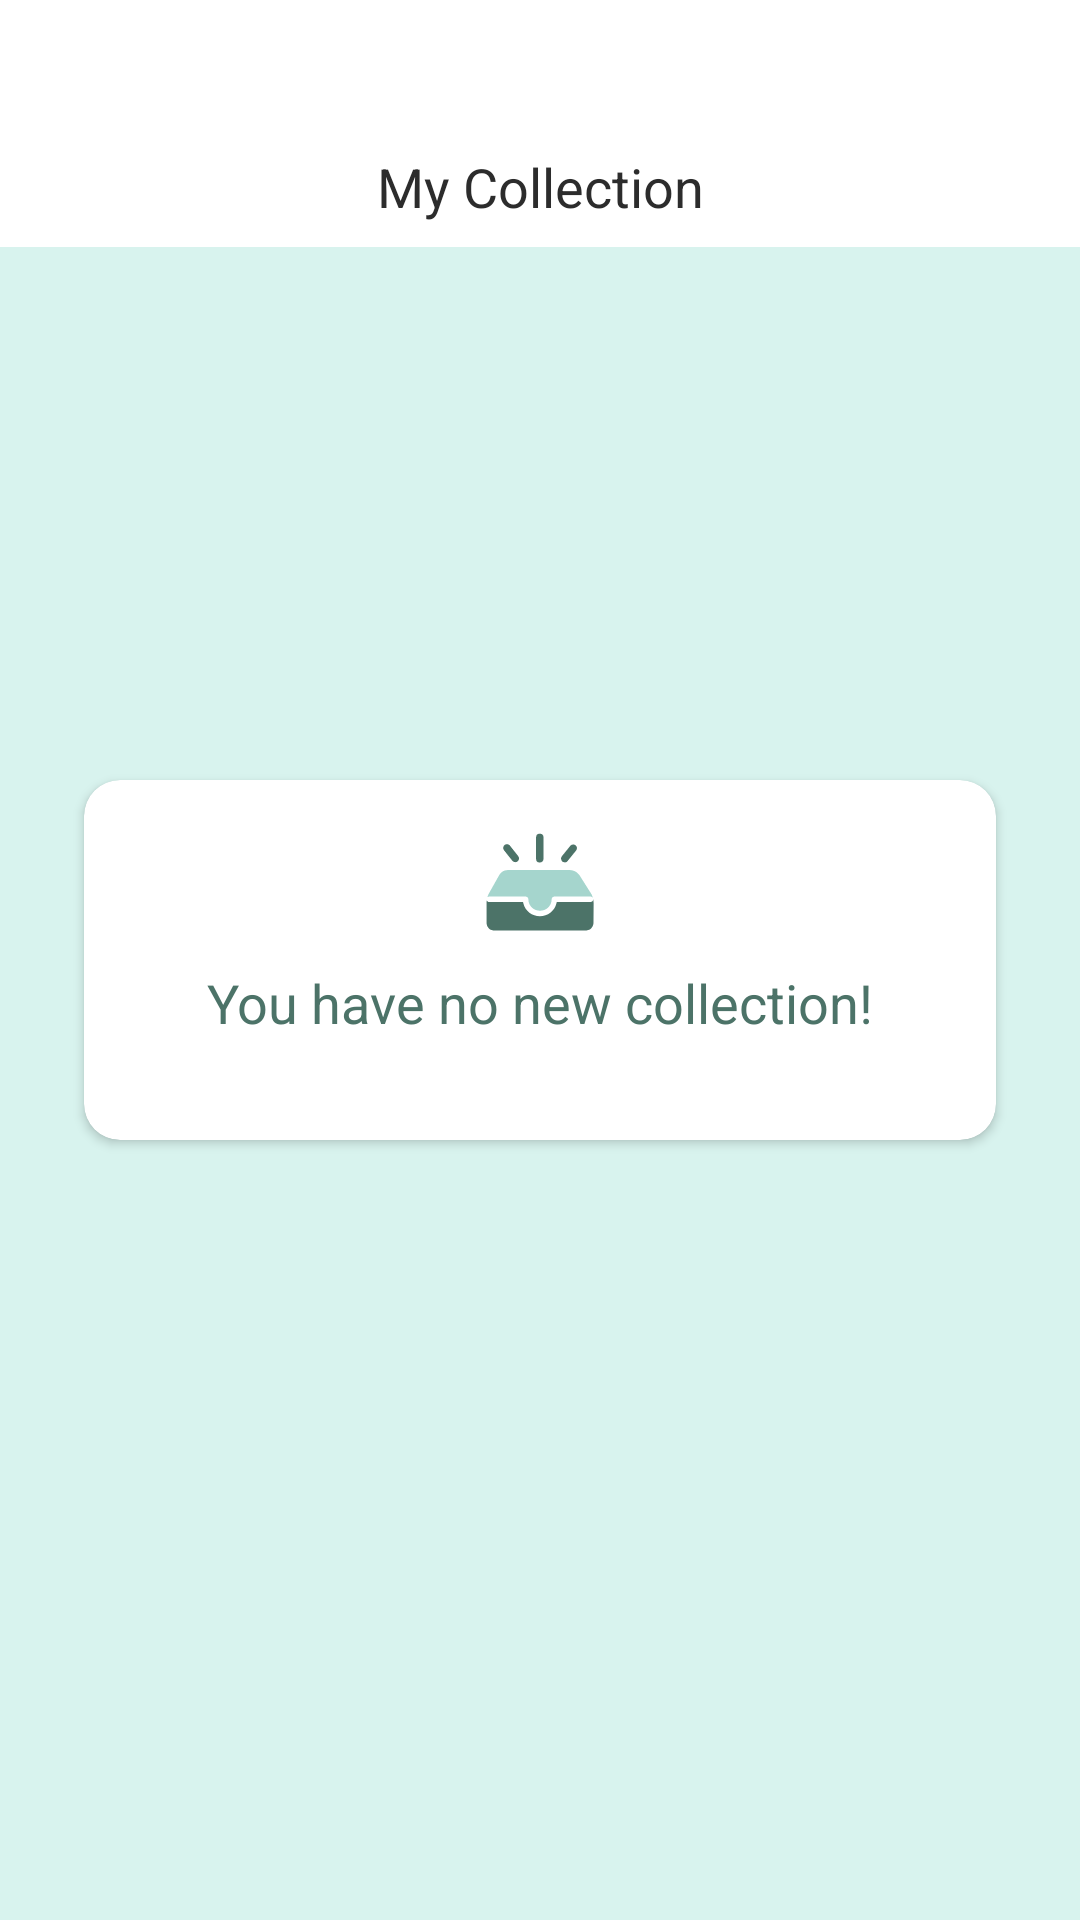

Where icons sit on this 1080 x 1920 app screen, as bbox=[x1, y1, x2, y2]:
collect null: bbox=[486, 833, 594, 931]
